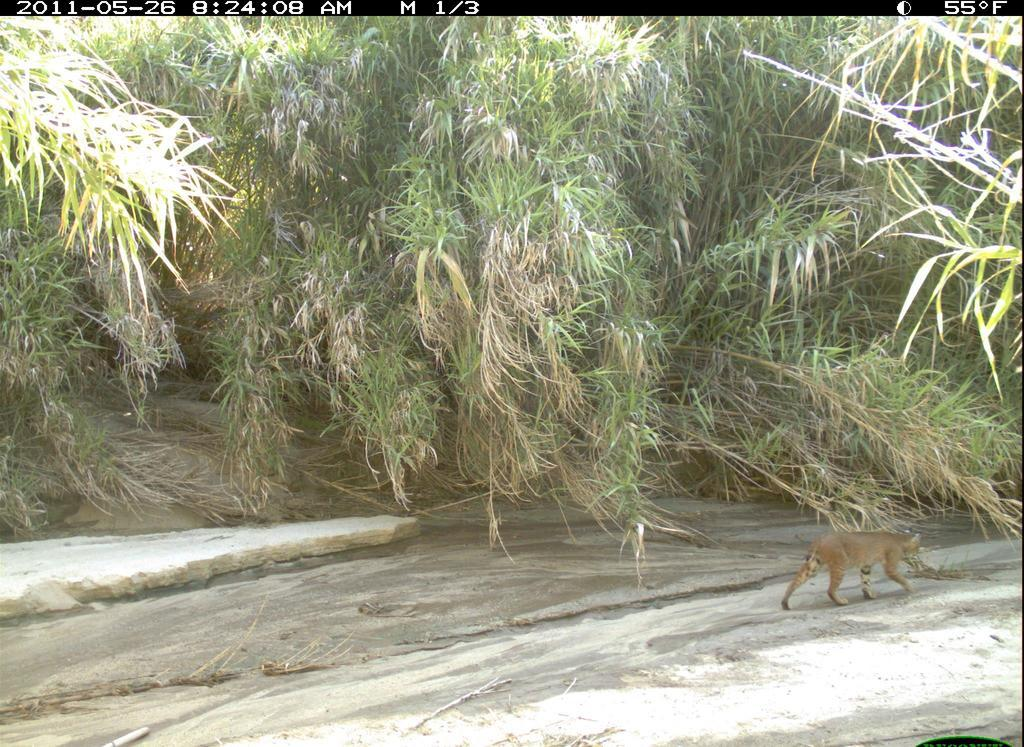bobcat: (772, 521, 930, 623)
